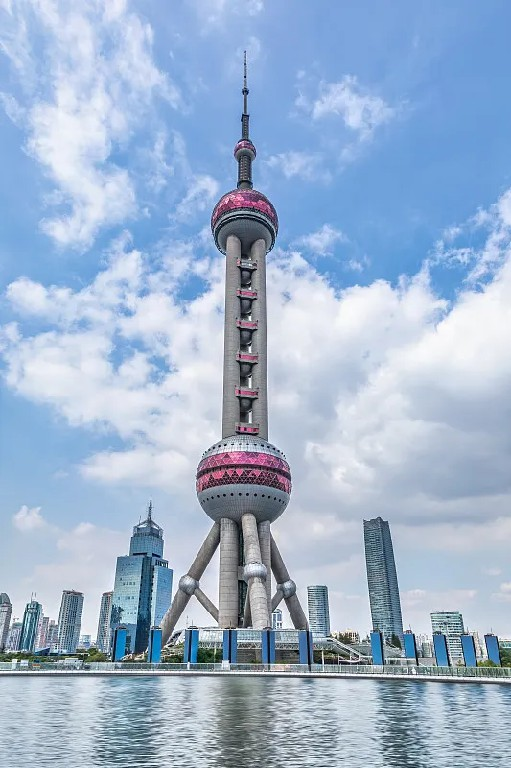Oriental: (158, 49, 311, 631)
